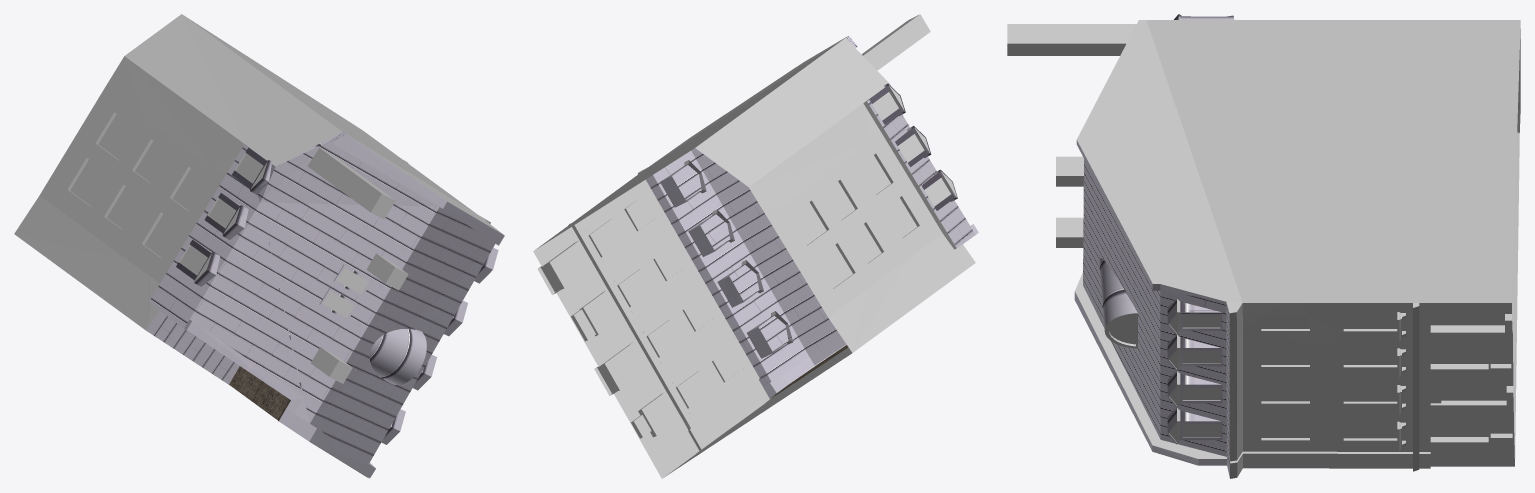
Rendered from Pikk_31.obj.
The picture shows the model from 3 angles, left to right: view 1: azimuth 30°, elevation 25°; view 2: azimuth 150°, elevation 25°; view 3: azimuth 270°, elevation 25°; orthographic projection. The views are drawn at different scales.
Parts seen in each view (by area): view 1: Pikk_31; view 2: Pikk_31; view 3: Pikk_31.
Part boxes in pixels (bbox=[...]): Pikk_31: bbox=[14, 14, 504, 478]; Pikk_31: bbox=[533, 14, 978, 478]; Pikk_31: bbox=[1007, 14, 1520, 478].
Bounding box in the file's own units: 18.45 × 18.59 × 20.
